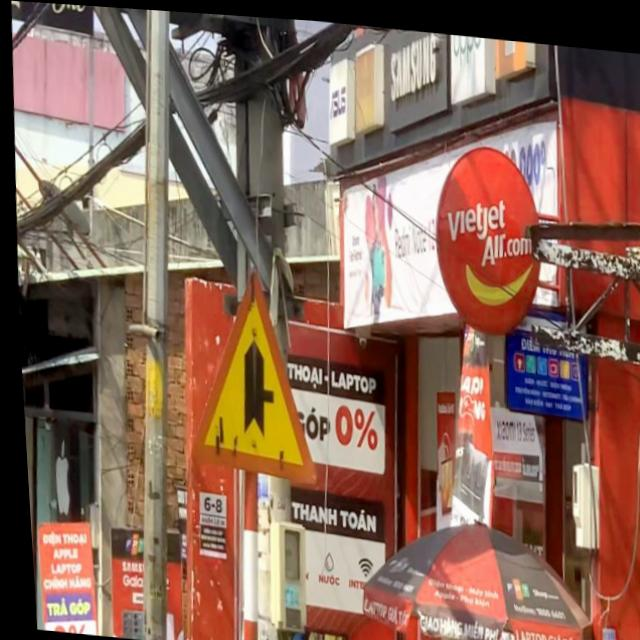Giao nhau voi duong khong uu tien ben phai: (168, 249, 328, 498)
